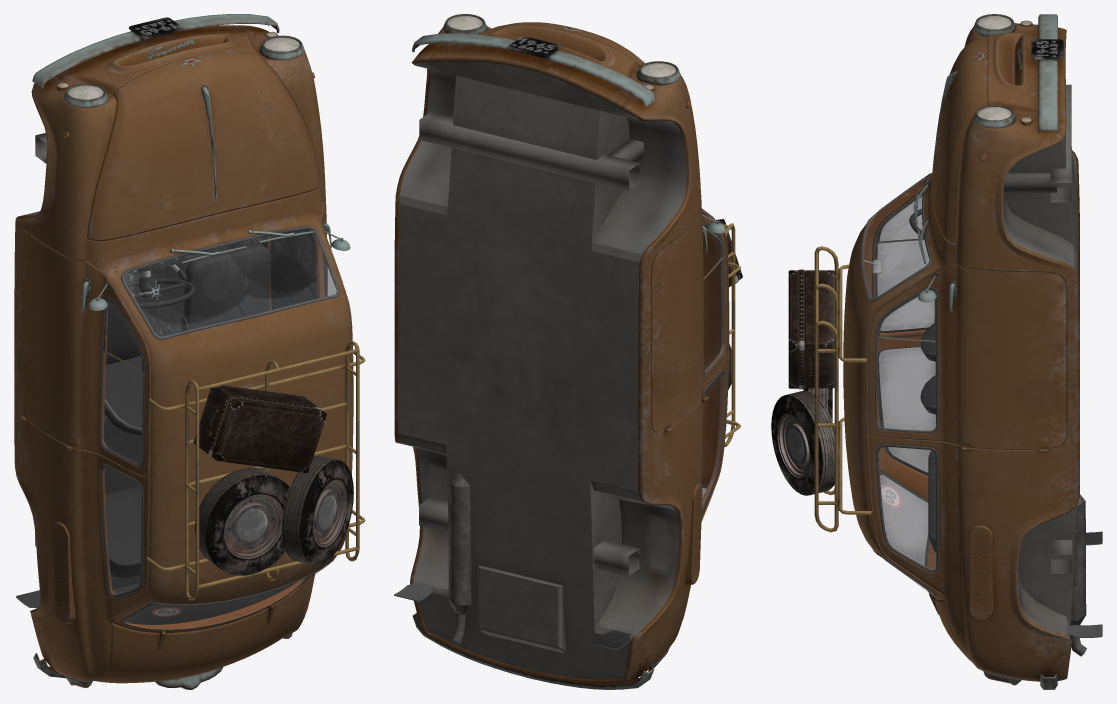
The model's file is ZAZ965_body.obj.
3 views of the same model, side by side, from view 1: azimuth 30°, elevation 25°; view 2: azimuth 150°, elevation 25°; view 3: azimuth 270°, elevation 25° (orthographic). The views are drawn at different scales.
Parts seen in each view (by area): view 1: ZAZ_965.002; view 2: ZAZ_965.002; view 3: ZAZ_965.002.
Part boxes in pixels (x1=…): ZAZ_965.002: x1=14, y1=14, x2=365, y2=689; ZAZ_965.002: x1=394, y1=14, x2=742, y2=689; ZAZ_965.002: x1=771, y1=14, x2=1102, y2=689.
Bounding box in the file's own units: 1.47 × 3.29 × 1.63.
Materials: 9 (9 with a texture image).
